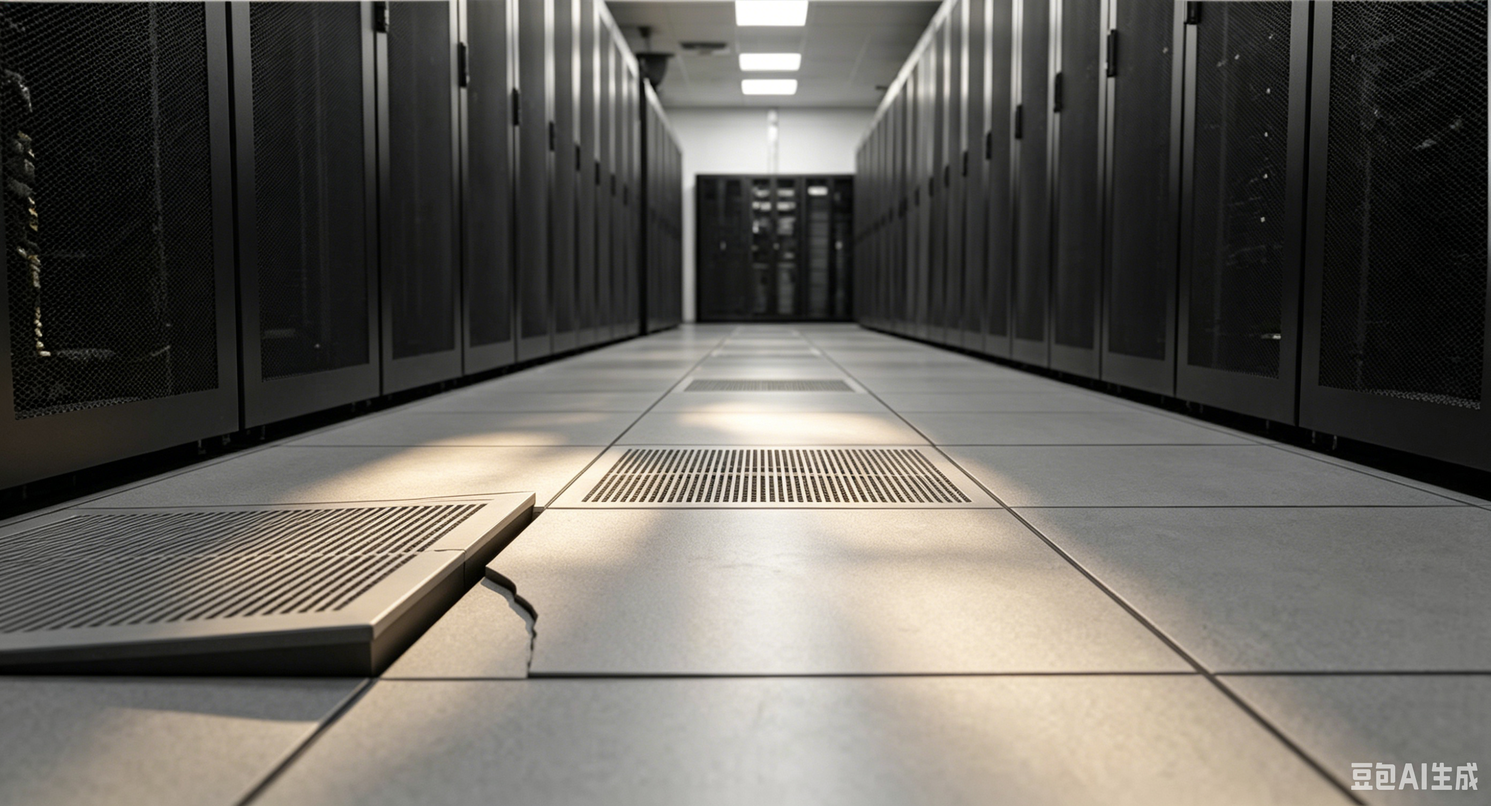floor_defect: (6, 626, 399, 692), (373, 548, 484, 651), (569, 634, 747, 698), (482, 558, 564, 683), (452, 489, 547, 559)
